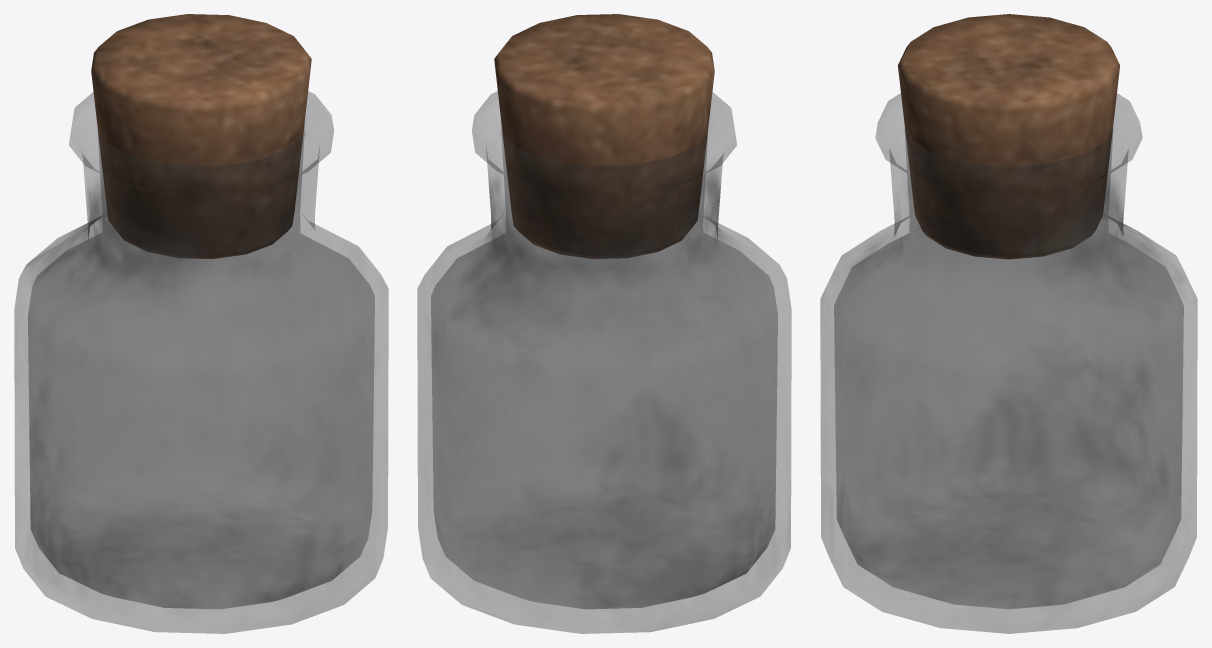
The model's file is bottle_clear_b.glb.
The picture shows the model from 3 angles, left to right: view 1: azimuth 30°, elevation 25°; view 2: azimuth 150°, elevation 25°; view 3: azimuth 270°, elevation 25°; orthographic projection.
Visible parts, largest first — view 1: chemistry_set_bottle_clear_b.001, chemistry_set_bottle_clear_b_cork.001; view 2: chemistry_set_bottle_clear_b.001, chemistry_set_bottle_clear_b_cork.001; view 3: chemistry_set_bottle_clear_b.001, chemistry_set_bottle_clear_b_cork.001.
Part boxes in pixels (bbox=[...]): chemistry_set_bottle_clear_b.001: bbox=[14, 91, 388, 633]; chemistry_set_bottle_clear_b_cork.001: bbox=[91, 14, 311, 259]; chemistry_set_bottle_clear_b.001: bbox=[417, 91, 791, 633]; chemistry_set_bottle_clear_b_cork.001: bbox=[494, 14, 714, 259]; chemistry_set_bottle_clear_b.001: bbox=[820, 93, 1197, 633]; chemistry_set_bottle_clear_b_cork.001: bbox=[898, 14, 1119, 259].
Size of the model in its own units: 0.0492 by 0.0737 by 0.0492.
Materials: 2 (2 with a texture image).
